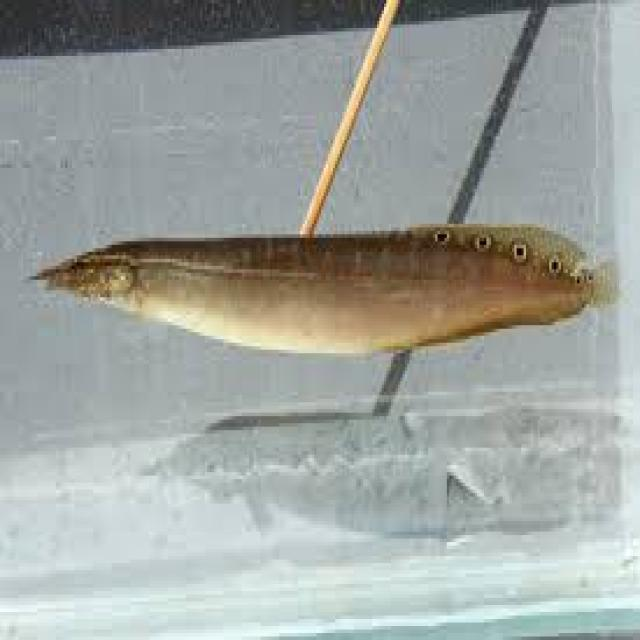Mekong_River_Eel: (26, 206, 619, 427)
